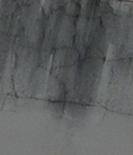fissura: (37, 2, 133, 85), (1, 72, 133, 120)
